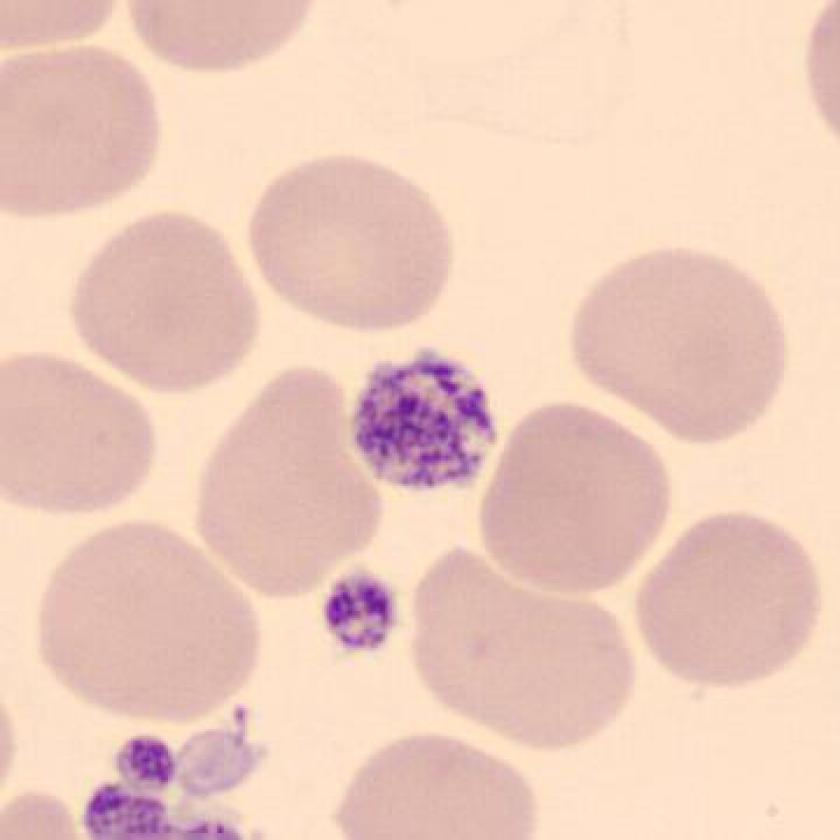platelets: (340, 337, 515, 503), (169, 709, 274, 811), (309, 559, 407, 668), (101, 726, 190, 800)
